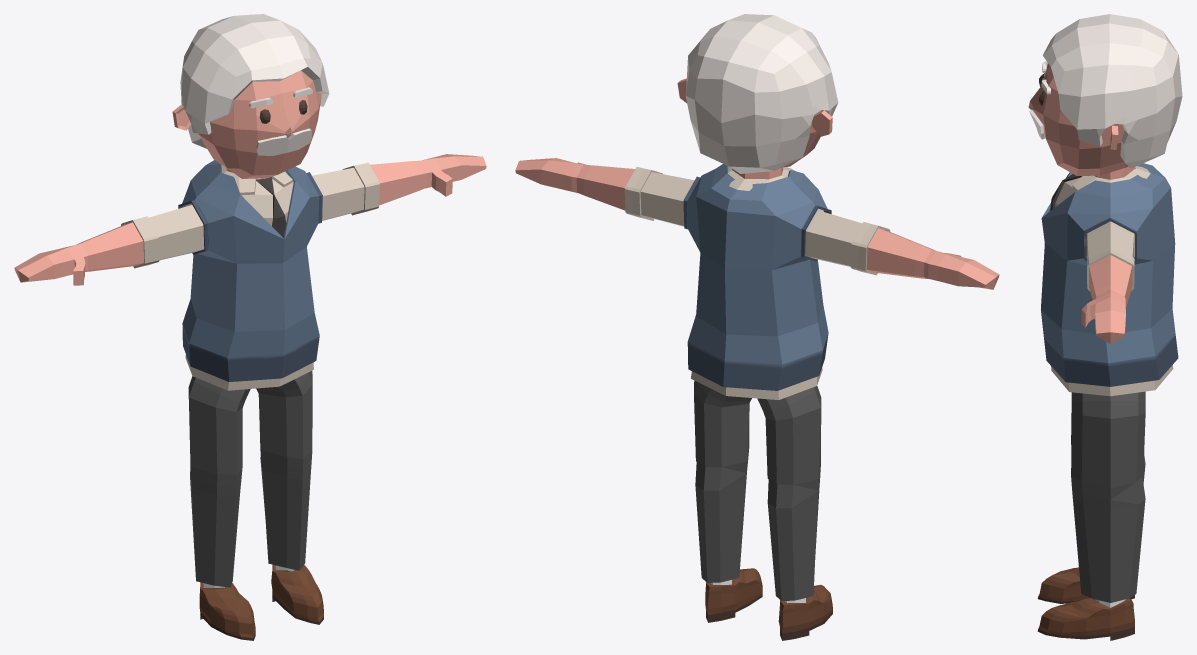
Rendered from npc_tutorial_static1.fbx.
The picture shows the model from 3 angles, left to right: view 1: azimuth 30°, elevation 25°; view 2: azimuth 150°, elevation 25°; view 3: azimuth 270°, elevation 25°; orthographic projection. The views are drawn at different scales.
Parts seen in each view (by area): view 1: torso, vest, hair, head, stuache; view 2: torso, vest, hair; view 3: torso, vest, hair, head, eyes.
Part boxes in pixels (x1,y1,x2,y2): torso: (14,154,486,640); vest: (178,160,322,381); hair: (180,14,329,148); head: (198,70,321,178); stuache: (256,129,312,155); torso: (515,158,999,640); vest: (683,164,831,390); hair: (685,14,838,173); torso: (1037,166,1173,640); vest: (1041,163,1178,386); hair: (1043,14,1182,168); head: (1028,63,1127,175); eyes: (1039,61,1050,105).
Size of the model in its own units: 583 by 700 by 165.
Materials: 6 (5 with a texture image).
